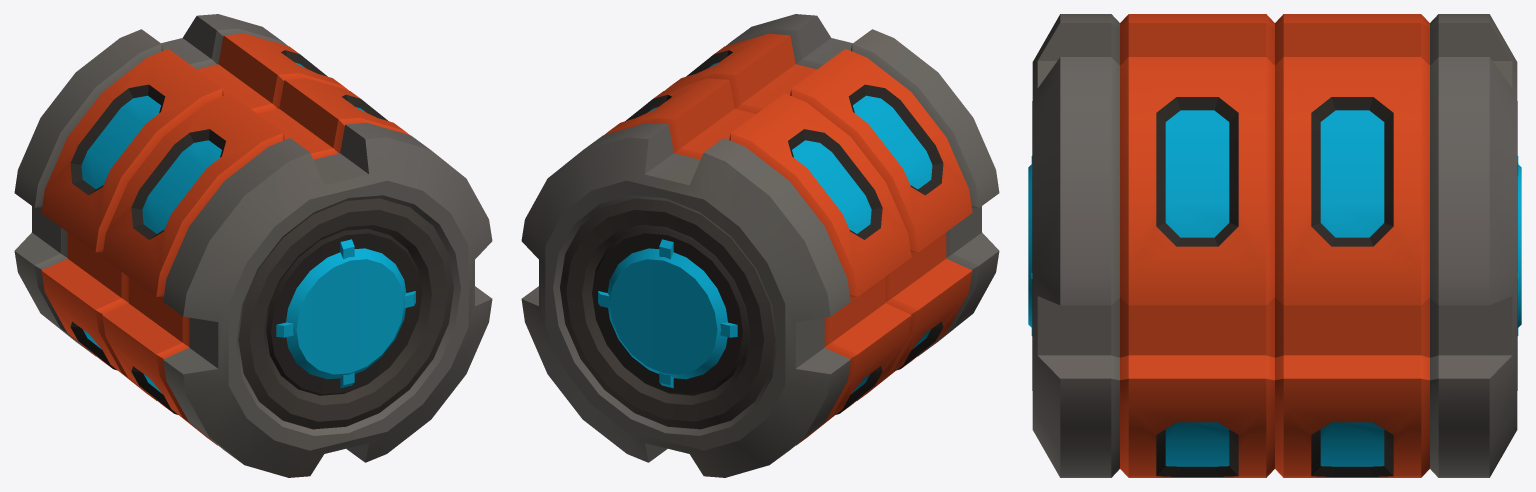
The model's file is SMG9_MagazineExtended.fbx.
3 views of the same model, side by side, from view 1: azimuth 30°, elevation 25°; view 2: azimuth 150°, elevation 25°; view 3: azimuth 270°, elevation 25° (orthographic). The views are drawn at different scales.
Parts seen in each view (by area): view 1: SMG9_MagazineExtended; view 2: SMG9_MagazineExtended; view 3: SMG9_MagazineExtended.
Boxes of the visible parts, <box> form: SMG9_MagazineExtended: <box>14,14,492,477</box>; SMG9_MagazineExtended: <box>521,14,999,477</box>; SMG9_MagazineExtended: <box>1028,14,1521,477</box>.
Bounding box in the file's own units: 6.4 × 6.4 × 6.95.
